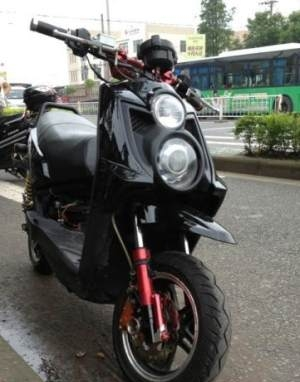电动车: (20, 15, 237, 380)
